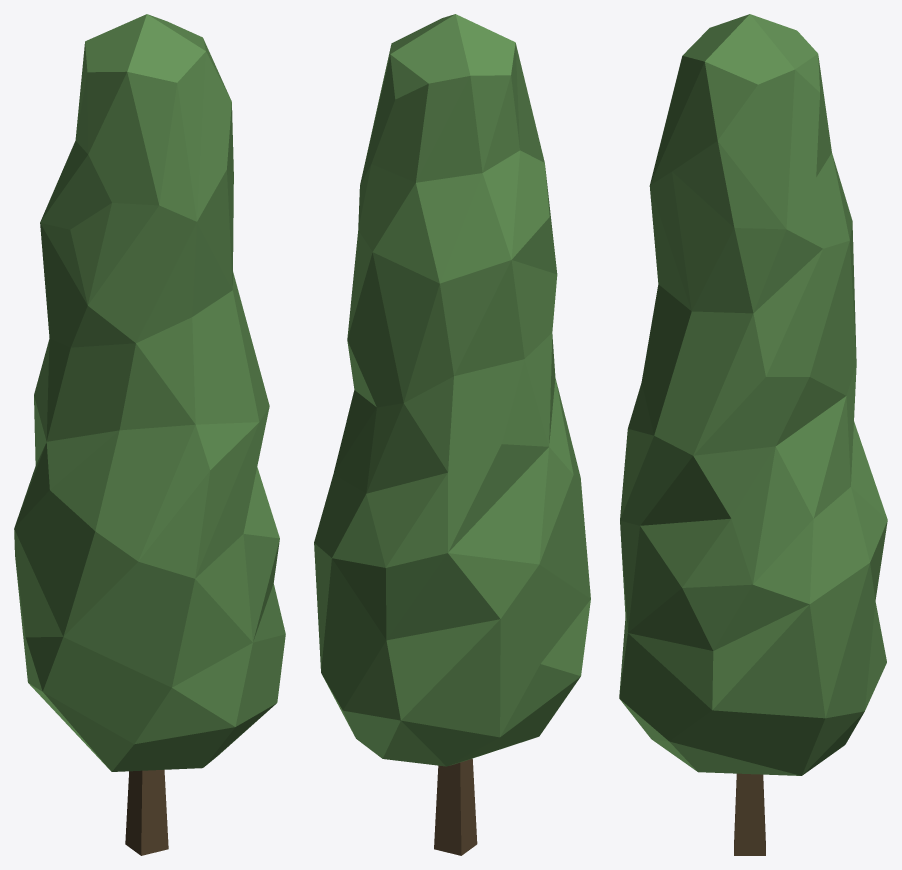
File: Big Coniferous.fbx
3 renders of one model, left to right at view 1: azimuth 30°, elevation 25°; view 2: azimuth 150°, elevation 25°; view 3: azimuth 270°, elevation 25°, orthographic.
Parts seen in each view (by area): view 1: big coniferous; view 2: big coniferous; view 3: big coniferous.
Boxes of the visible parts, x1,y1,x2,y2 form: big coniferous: (14, 14, 285, 855); big coniferous: (314, 14, 590, 855); big coniferous: (619, 14, 887, 855).
Bounding box in the file's own units: 191 × 648 × 189.
